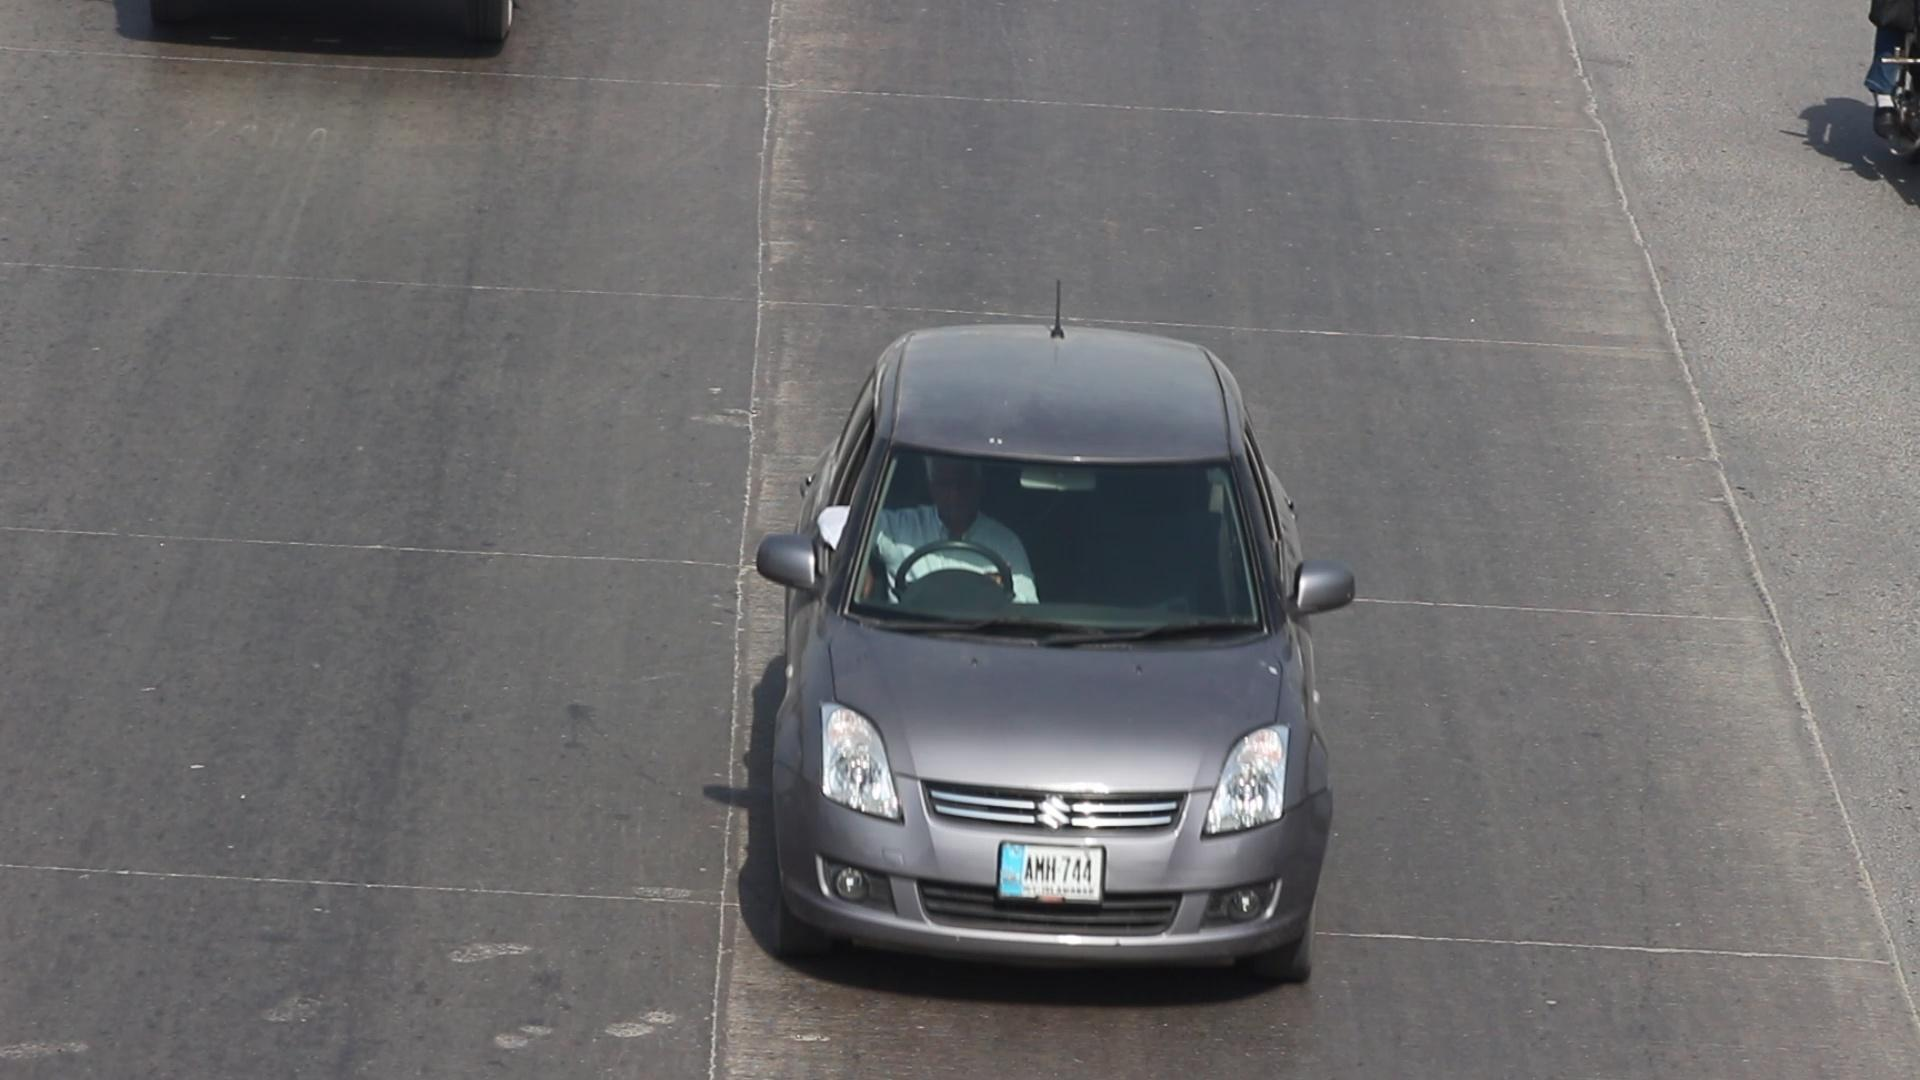windshield: (818, 423, 1294, 650)
